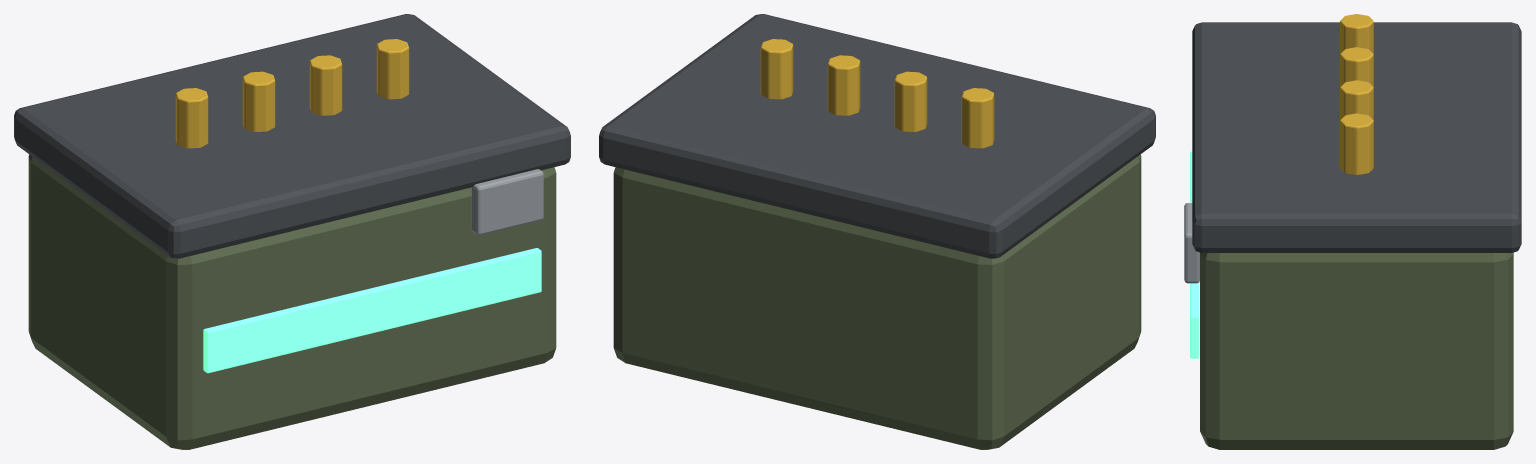
Rendered from pickup_ammo.glb.
3 renders of one model, left to right at view 1: azimuth 30°, elevation 25°; view 2: azimuth 150°, elevation 25°; view 3: azimuth 270°, elevation 25°, orthographic.
Parts seen in each view (by area): view 1: pickup_ammo; view 2: pickup_ammo; view 3: pickup_ammo.
Part boxes in pixels (x1,y1,x2,y2): pickup_ammo: (14, 14, 570, 449); pickup_ammo: (599, 14, 1155, 449); pickup_ammo: (1184, 14, 1521, 449).
Size of the model in its own units: 0.6 by 0.41 by 0.43.
